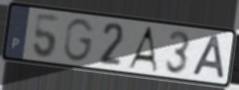2: (97, 21, 126, 68)
3: (164, 30, 193, 76)
5: (31, 11, 59, 60)
A: (190, 33, 226, 81), (125, 26, 159, 74)
G: (63, 17, 97, 64)
